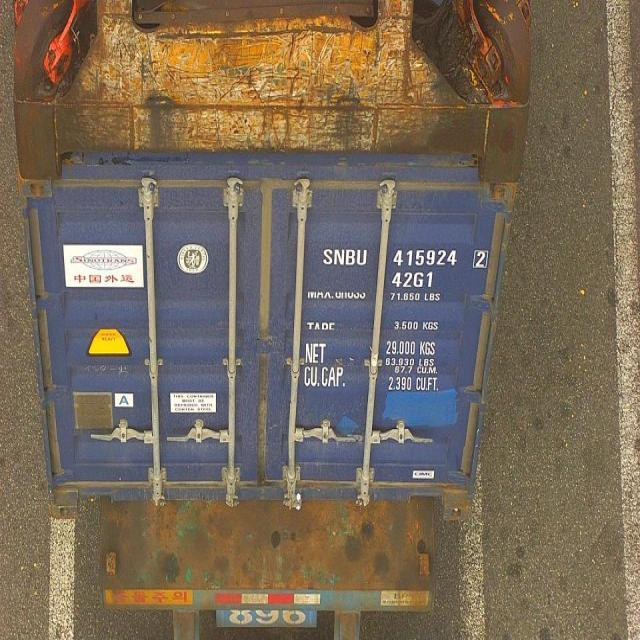ISO: (392, 268, 439, 288)
container_number: (320, 245, 490, 268)
